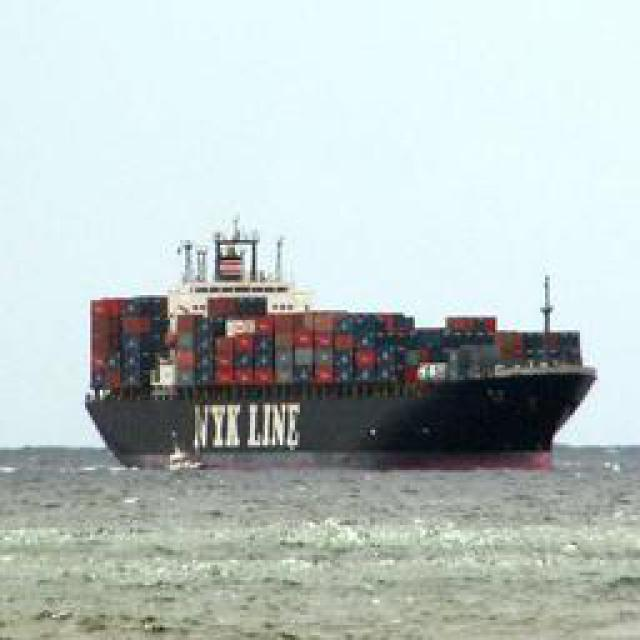Ship: (93, 221, 591, 461)
